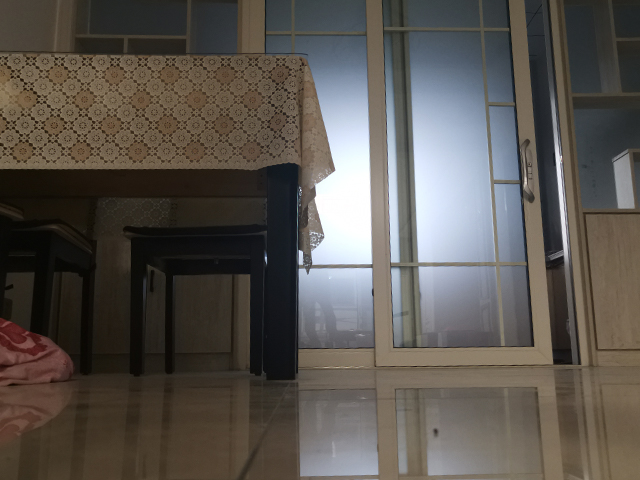cabinet: (567, 206, 640, 369)
stool: (114, 219, 270, 379), (1, 211, 91, 379)
table: (1, 50, 313, 383)
